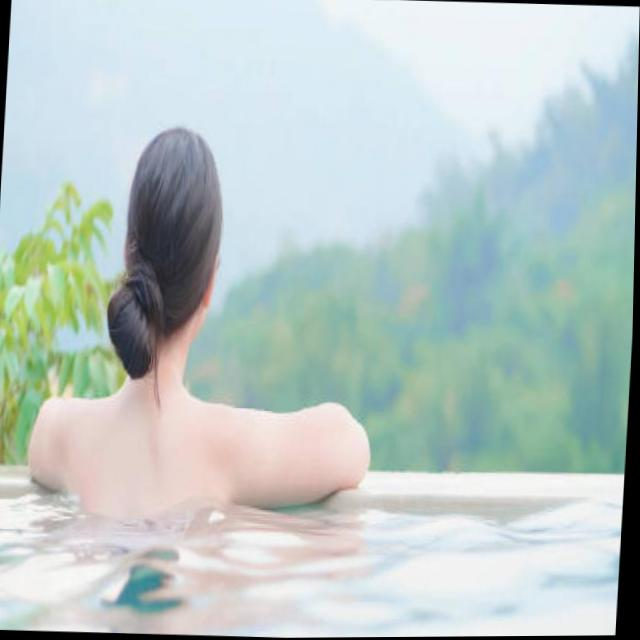no helmet: (103, 111, 233, 385)
